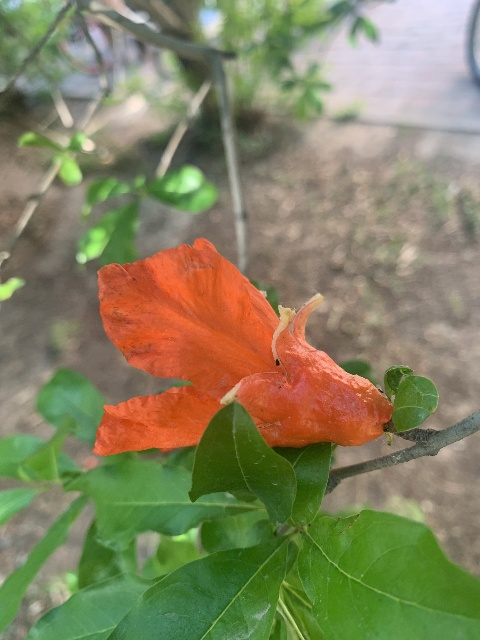flower: (87, 236, 387, 456)
